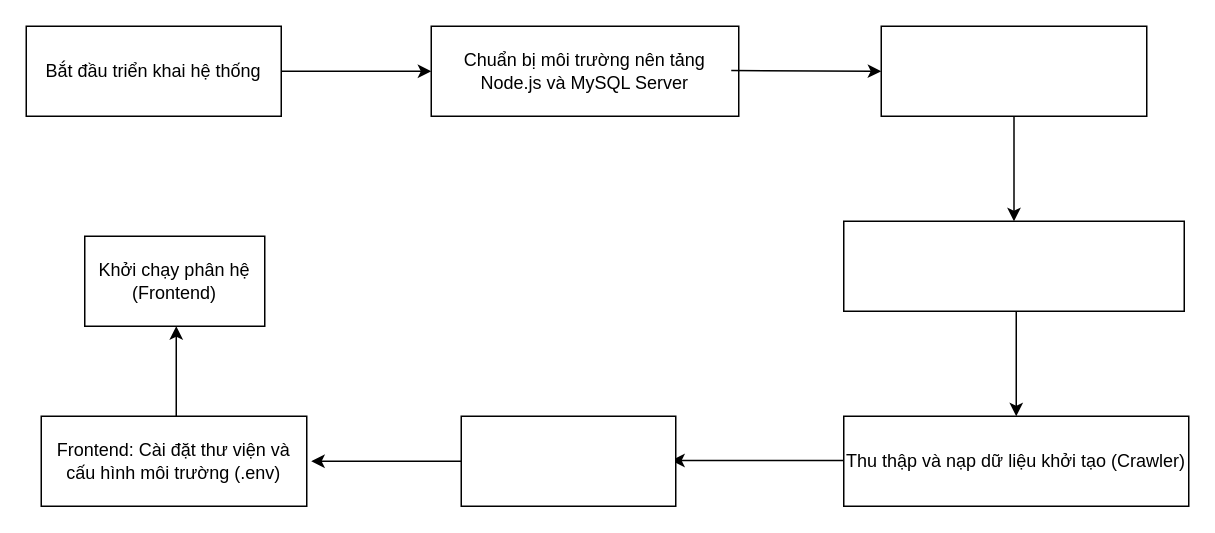
The diagram is 1215 pixels wide and 533 high, and some of its shapes have lost their labels. The centre of each missing label's shape, as x and y in pixels:
Backend: Cài đặt thư viện và cấu hình môi trường (.env): (x=1013, y=70)
Khởi chạy phân hệ Backend: (x=568, y=460)
Triển khai cơ sở dữ liệu. Khởi tạo database và chạy Migration: (x=1013, y=265)
